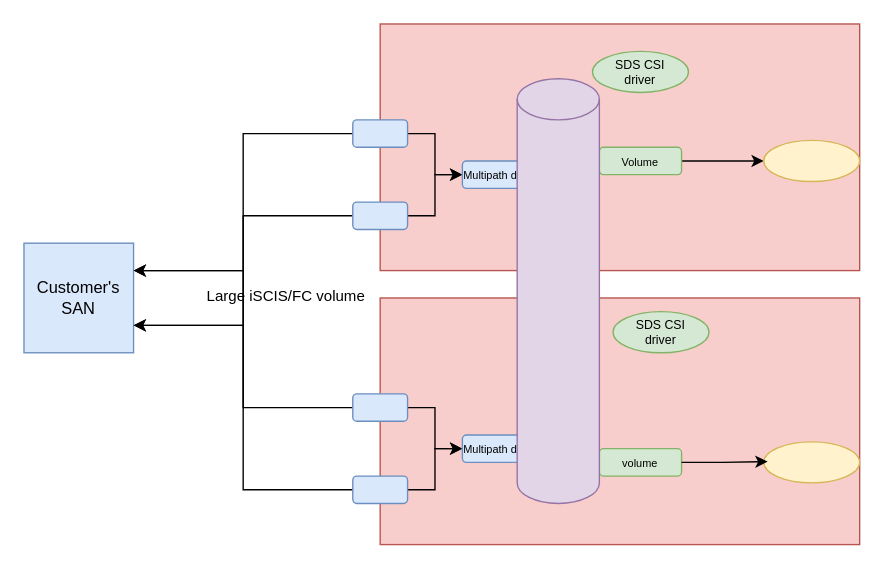
Image size: 884x569. Some labels were removed from this diagram. The box of each missing label's shape, as (x1, y1, x2, y2) in pixels:
SDS: (516, 77, 599, 503)
VM1: (762, 139, 860, 182)
VMn: (762, 440, 860, 483)
